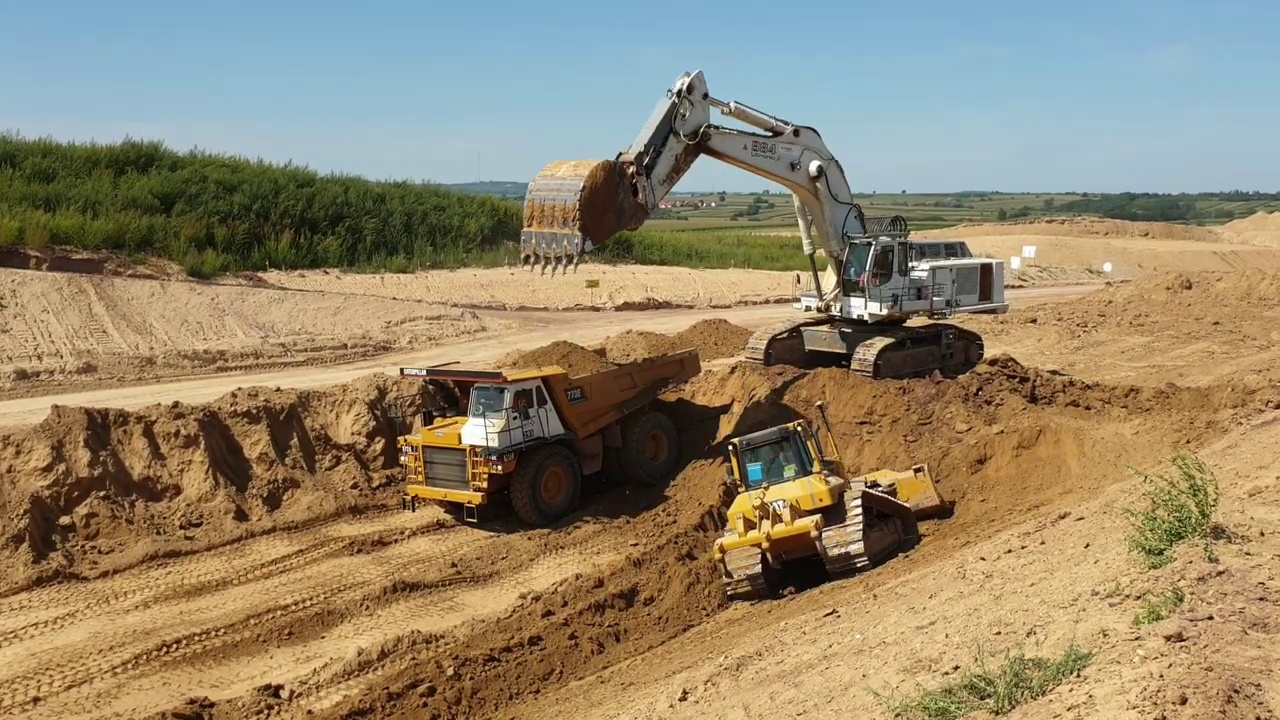bulldozer: (709, 396, 952, 605)
excavator: (519, 62, 1012, 383)
truck: (401, 350, 706, 533)
